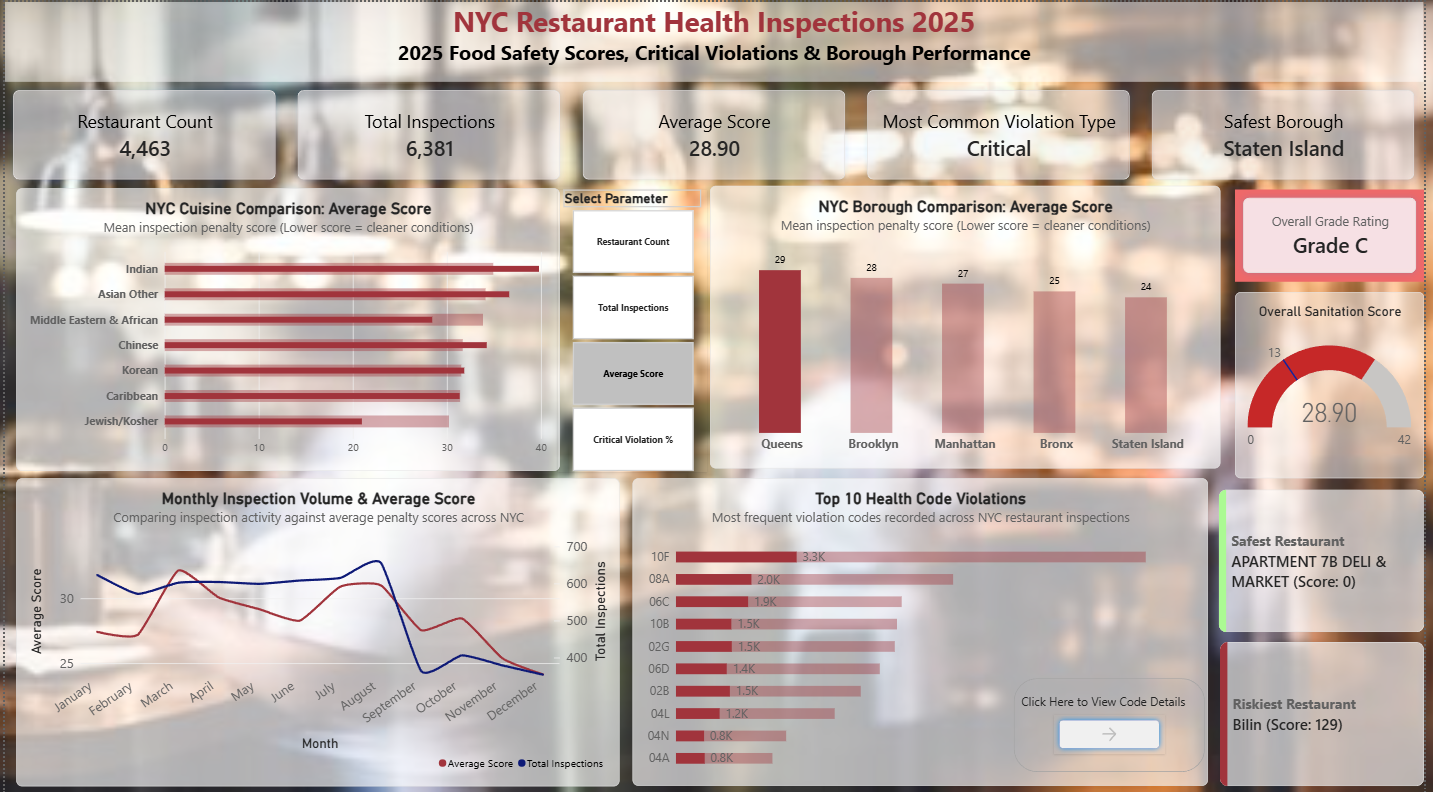

This screenshot's page, from the dashboard's own definition file:
{"tool":"powerbi","page":{"name":"Dashboard","canvas":[1920,1080],"ordinal":0},"visuals":[{"type":"shape","box":[1364.4,914.7,258.7,126.8],"z":0},{"type":"cardVisual","fields":{"Data":["_Measures.Restaurant Count","_Measures.Total Inspections 2025","_Measures.Average Score 2025","_Measures.Dominant Critical Flag","_Measures.Lowest Avg Inspection Score Boro 2025"]},"box":[0,108,1920,143.2],"z":1000},{"type":"textbox","box":[0,0,1918.5,108],"z":2000},{"type":"clusteredBarChart","fields":{"Category":["restaurant_health_inspection_data_analysis insp.CUISINE DESCRIPTION"],"Y":["_Measures.Critical Violation %"]},"box":[15,252.5,735,382.5],"z":3000},{"type":"clusteredColumnChart","fields":{"Category":["restaurant_health_inspection_data_analysis insp.BORO"],"Y":["_Measures.Critical Violation %"]},"box":[954,248,690,382.5],"z":4000},{"type":"slicer","fields":{"Values":["Parameter.Parameter"]},"box":[748.1,253.8,202.6,382.6],"z":5000},{"type":"lineChart","title":"Monthly Inspection Volume & Average Score","fields":{"Category":["restaurant_health_inspection_data_analysis insp.INSPECTION DATE.Variation.Date Hierarchy.Month"],"Y":["_Measures.Average Score"],"Y2":["_Measures.Total Inspections"]},"box":[15.2,643.9,816.3,416.7],"z":6000},{"type":"gauge","title":"Overall Sanitation Score","fields":{"MaxValue":["Gauge.Gauge Max"],"MinValue":["Gauge.Gauge Min"],"TargetValue":["Gauge.Gauge Grade A Cutoff"],"Y":["_Measures.Average Score"]},"box":[1662.8,392,255.7,251.9],"z":7000},{"type":"clusteredBarChart","title":" Top 10 Health Code Violations","fields":{"Category":["Violation Code Reference.Violation Code"],"Y":["_Measures.Total Inspections"]},"box":[848.5,643.9,778,416],"z":8000},{"type":"cardVisual","fields":{"Data":["Gauge.Overall Grade Rating"]},"box":[1663.1,253.4,257,124.9],"z":9000},{"type":"actionButton","box":[1418.5,963.7,150.3,53.4],"z":10000},{"type":"textbox","box":[1374.5,934.9,240.1,28.7],"z":11000},{"type":"cardVisual","fields":{"Data":["_Measures.Lowest Score Restaurant 2025"]},"box":[1642,659.1,278.4,193.2],"z":12000},{"type":"cardVisual","fields":{"Data":["_Measures.Riskiest Restaurant"]},"box":[1643.9,865.5,276.5,195.1],"z":13000}]}

Visuals, with their boxes in screenshot pixels (x1, y1, x2, y2), scaled from the page's 1920x1080 canvas onto the 1433x792 screenshot:
shape: 1018/671/1211/764
cardVisual - _Measures.Restaurant Count x _Measures.Total Inspections 2025: 0/79/1432/184
textbox: 0/0/1432/79
clusteredBarChart - restaurant_health_inspection_data_analysis insp.CUISINE DESCRIPTION x _Measures.Critical Violation %: 11/185/560/466
clusteredColumnChart - restaurant_health_inspection_data_analysis insp.BORO x _Measures.Critical Violation %: 712/182/1227/462
slicer - Parameter.Parameter: 558/186/710/467
"Monthly Inspection Volume & Average Score" lineChart: 11/472/621/778
"Overall Sanitation Score" gauge: 1241/287/1432/472
" Top 10 Health Code Violations" clusteredBarChart: 633/472/1214/777
cardVisual - Gauge.Overall Grade Rating: 1241/186/1432/277
actionButton: 1059/707/1171/746
textbox: 1026/686/1205/707
cardVisual - _Measures.Lowest Score Restaurant 2025: 1226/483/1432/625
cardVisual - _Measures.Riskiest Restaurant: 1227/635/1432/778
